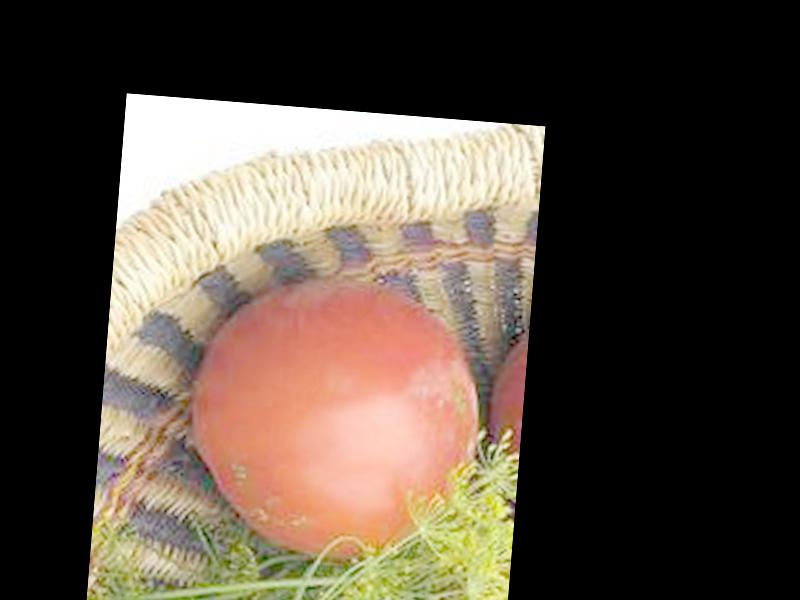Tomato: (184, 268, 490, 571)
